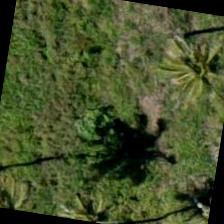Kelapa_Sawit: (146, 19, 223, 122)
